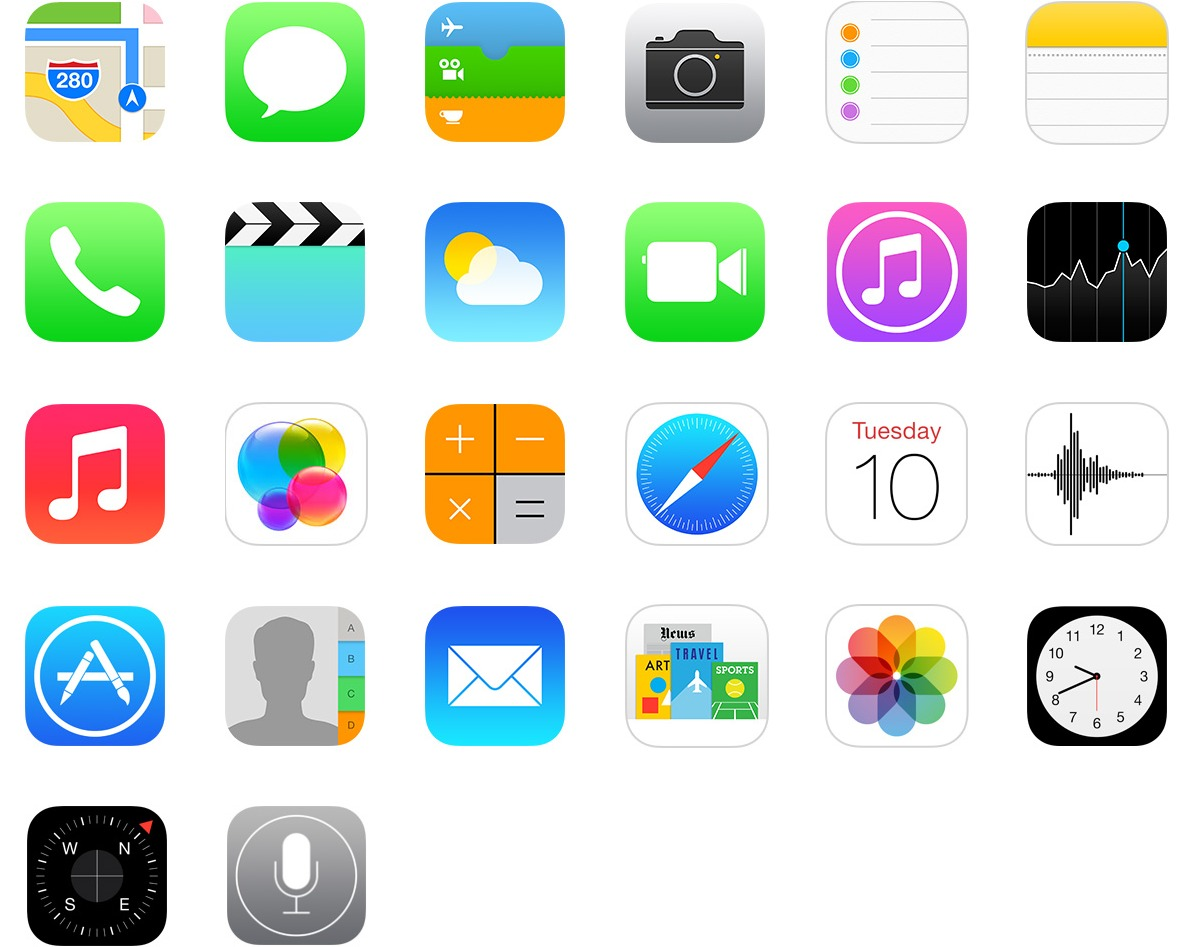calendar: (791, 384, 973, 550)
clock: (1018, 601, 1184, 745)
phonemessages: (210, 13, 359, 143)
